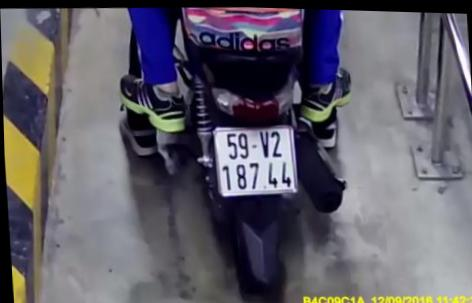LP: (207, 116, 301, 203)
